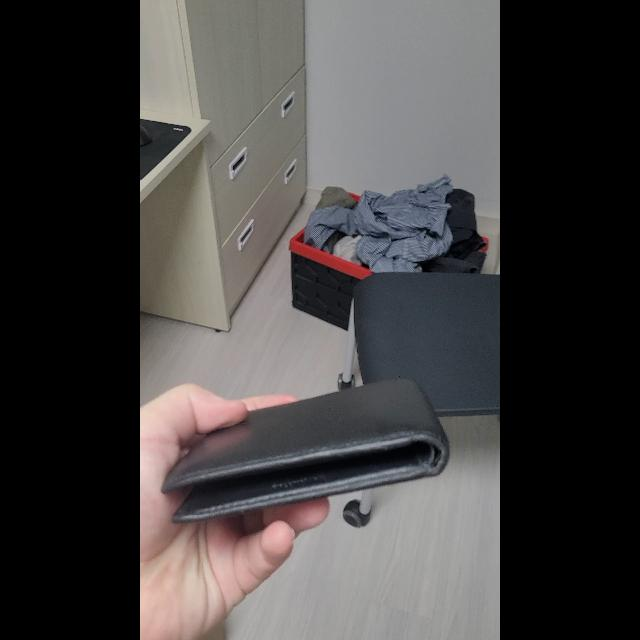WALLET: (162, 380, 450, 522)
